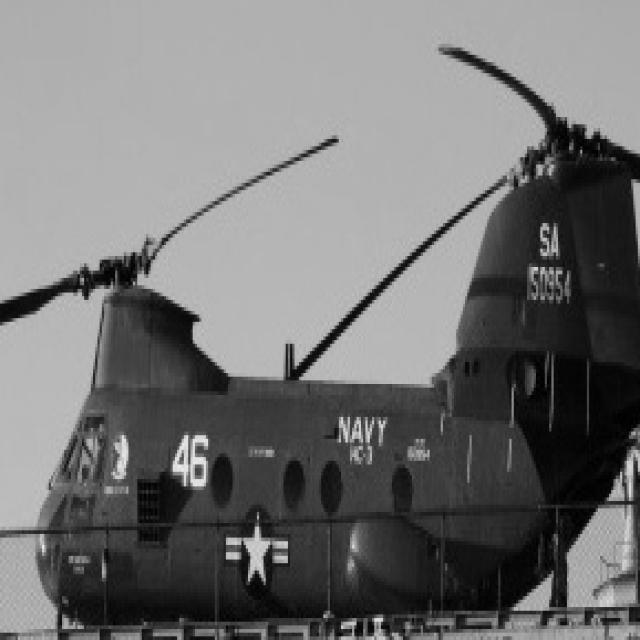Helicopter: (2, 48, 640, 626)
